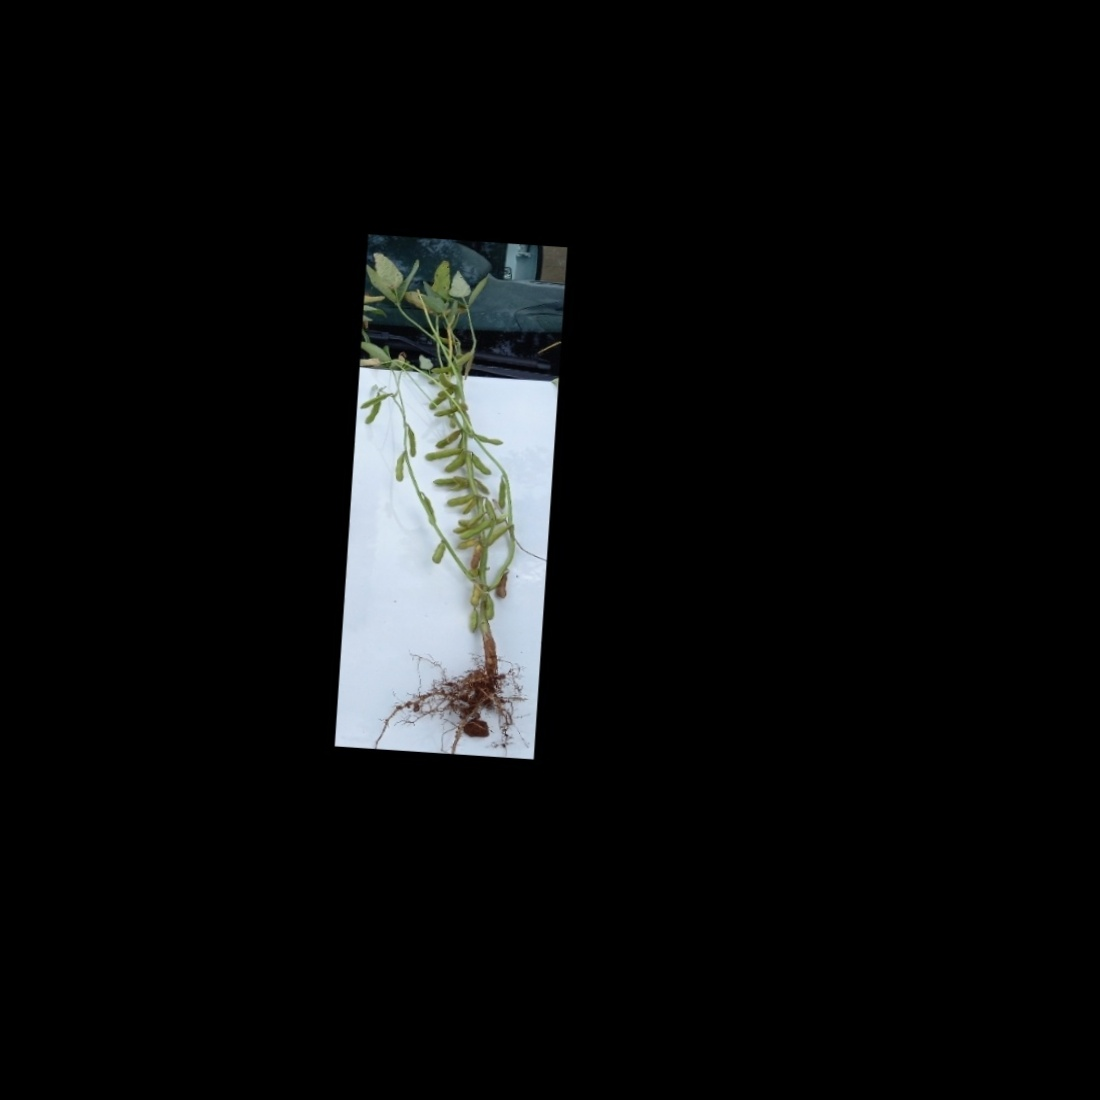pod: (456, 518, 492, 544), (467, 449, 495, 480), (422, 445, 465, 463), (433, 426, 462, 451), (424, 538, 448, 568), (389, 448, 408, 485), (493, 567, 511, 602), (443, 489, 473, 509), (492, 475, 509, 511), (474, 430, 507, 448), (405, 425, 420, 458)
soy: (343, 254, 554, 740)
